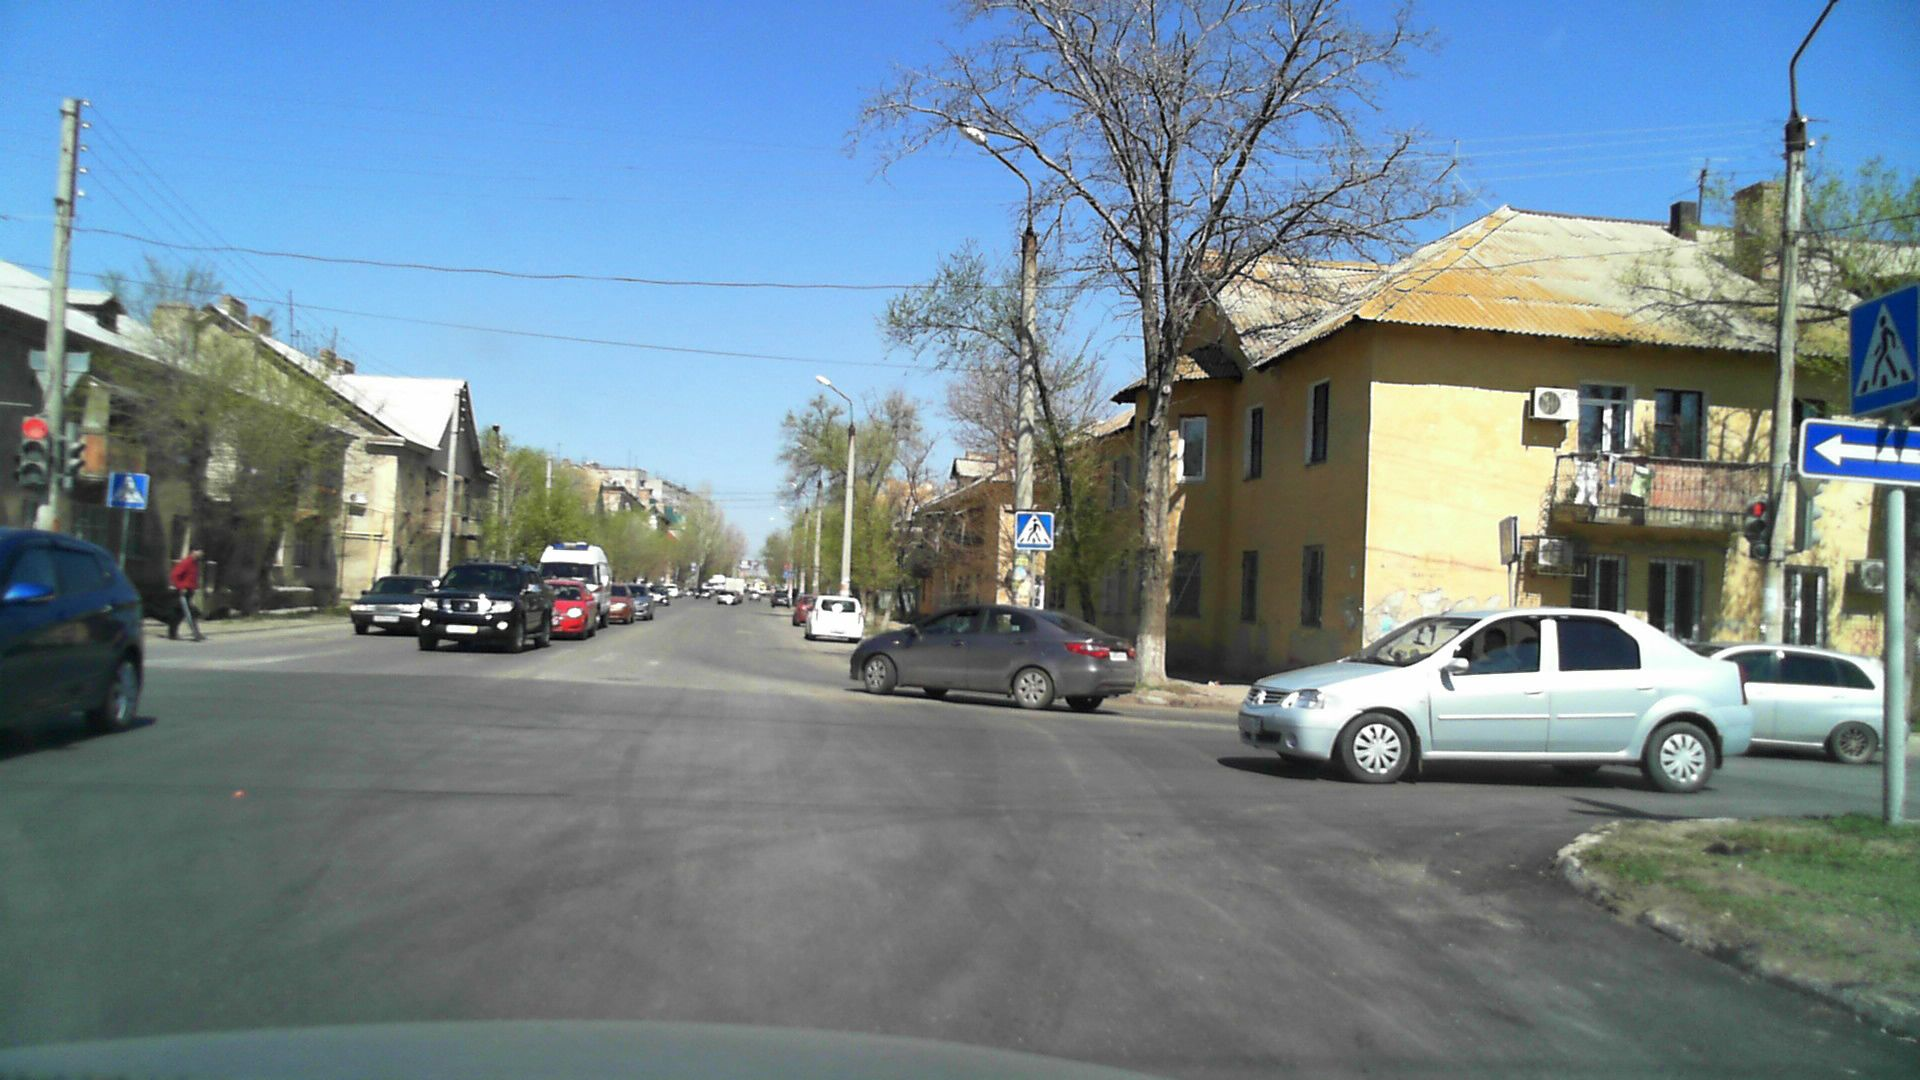One-Way Traffic: (1801, 419, 1920, 484)
Pedestrian Crossing: (1849, 287, 1920, 413), (1015, 512, 1052, 549)
